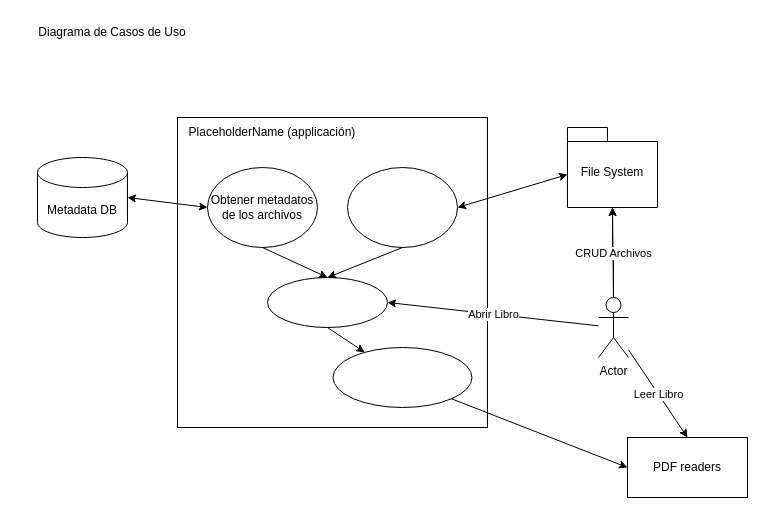
Image size: 765x515. Some labels were removed from this diagram. The shapes that lost their labels are listed below. From the top down, each one's centre as x and y in pixels, then its label:
At [402,207]: "Escanear los archivos locales".
At [327,302]: "Obtener archivos guardados".
At [402,377]: "Abrir Reader Externo".
